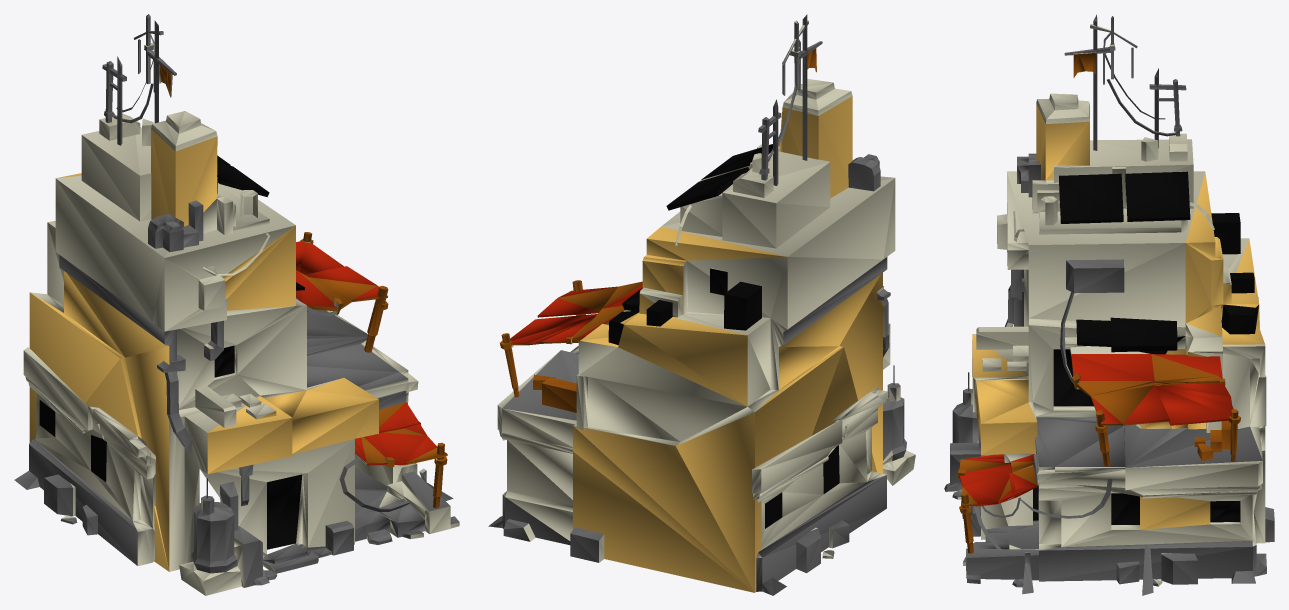
Rendered from ruin - building.glb.
3 renders of one model, left to right at view 1: azimuth 30°, elevation 25°; view 2: azimuth 150°, elevation 25°; view 3: azimuth 270°, elevation 25°, orthographic. The views are drawn at different scales.
Visible parts, largest first — view 1: tripo_node_1875b615-6184-421d-bf56-527c36ba68bd; view 2: tripo_node_1875b615-6184-421d-bf56-527c36ba68bd; view 3: tripo_node_1875b615-6184-421d-bf56-527c36ba68bd.
Part boxes in pixels (box(x1,y1,x2,y2)): tripo_node_1875b615-6184-421d-bf56-527c36ba68bd: box(14, 14, 459, 595); tripo_node_1875b615-6184-421d-bf56-527c36ba68bd: box(488, 14, 915, 595); tripo_node_1875b615-6184-421d-bf56-527c36ba68bd: box(944, 14, 1274, 595).
Size of the model in its own units: 10.03 by 14.92 by 9.59.
